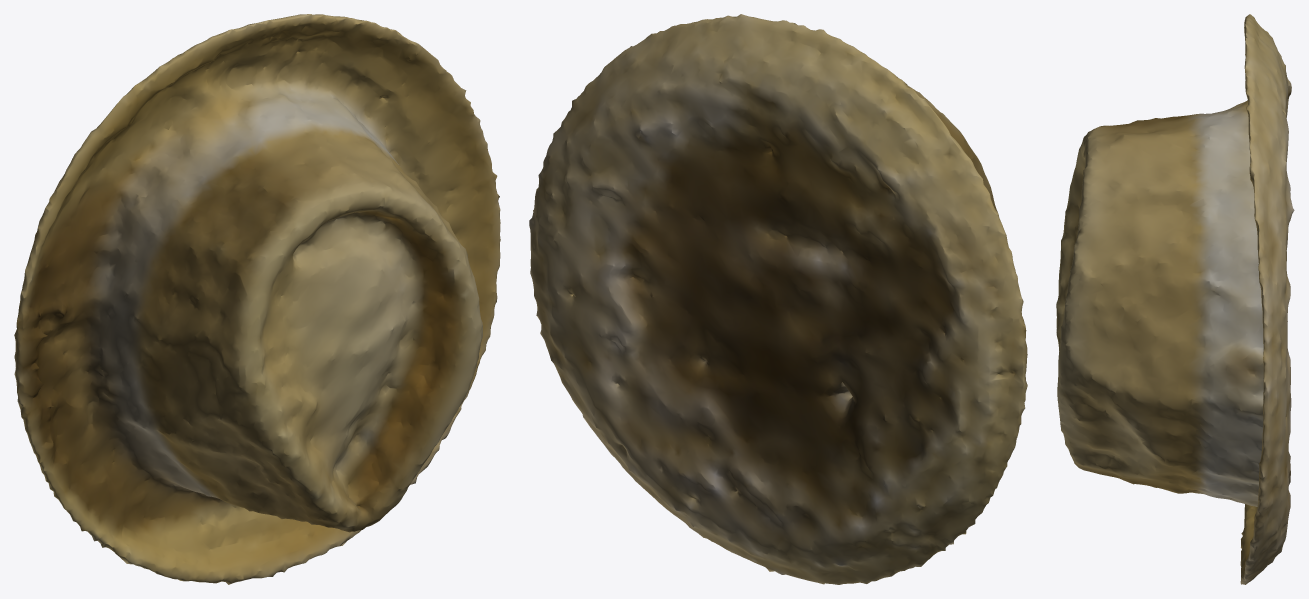
Rendered from hat.glb.
3 views of the same model, side by side, from view 1: azimuth 30°, elevation 25°; view 2: azimuth 150°, elevation 25°; view 3: azimuth 270°, elevation 25° (orthographic). The views are drawn at different scales.
Bounding box in the file's own units: 0.9186 × 0.9955 × 0.4114.
